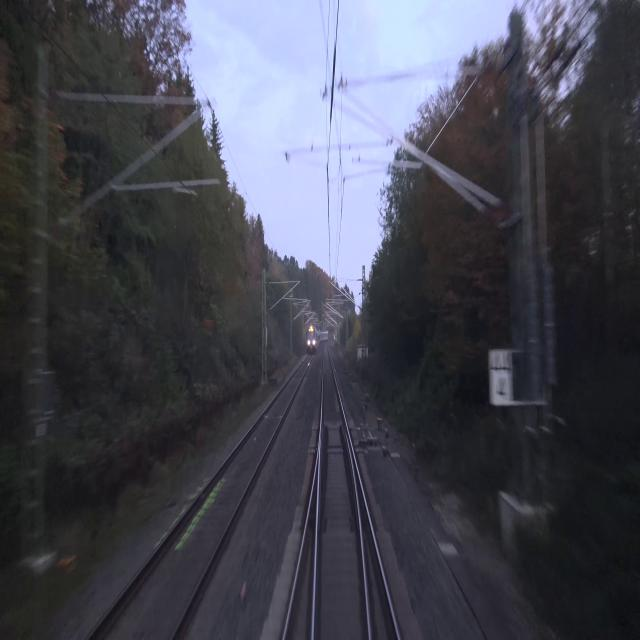rail-track: (91, 353, 311, 639), (316, 345, 366, 639), (357, 478, 395, 639), (286, 488, 314, 639)
